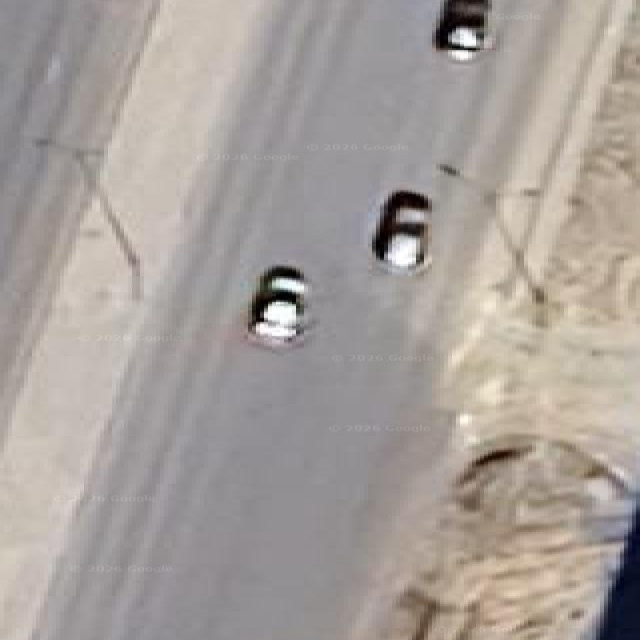car: (433, 0, 492, 60)
